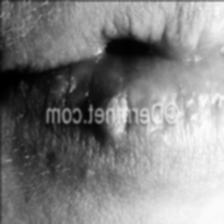Toxin: (98, 91, 132, 137)
